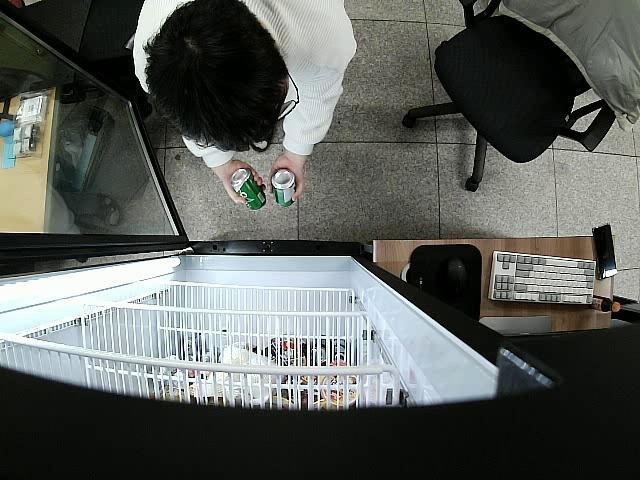12_chilsungCider: (232, 167, 266, 209), (272, 168, 298, 208)
